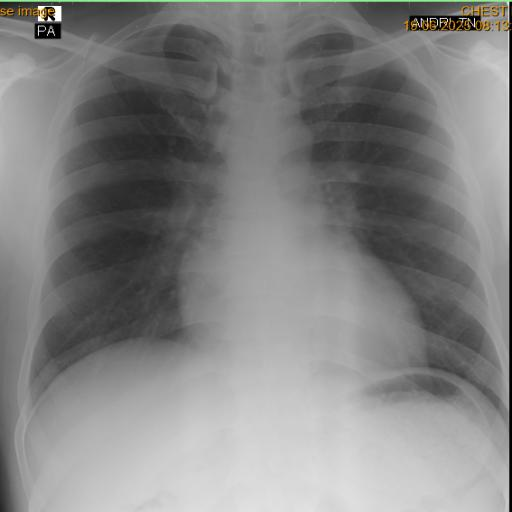kardiomegali: (10, 2, 505, 426)
